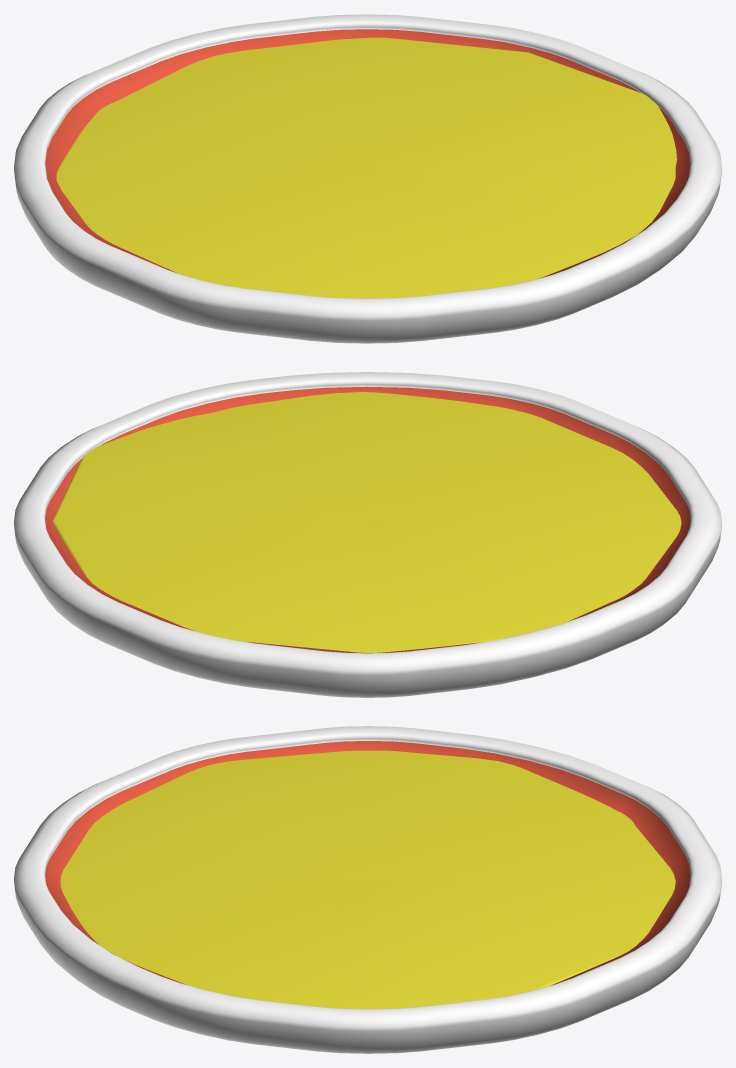
File: PizzaBase.glb
3 views of the same model, one above another, from view 1: azimuth 30°, elevation 25°; view 2: azimuth 150°, elevation 25°; view 3: azimuth 270°, elevation 25° (orthographic).
Visible parts, largest first — view 1: Circle.001, Circle; view 2: Circle.001, Circle; view 3: Circle.001, Circle.
Part boxes in pixels (<box>): Circle.001: <box>56,37,676,298</box>; Circle: <box>14,14,721,343</box>; Circle.001: <box>52,392,681,652</box>; Circle: <box>14,372,721,697</box>; Circle.001: <box>60,750,675,1009</box>; Circle: <box>14,726,721,1053</box>.
Size of the model in its own units: 5.73 by 0.378 by 5.72.
